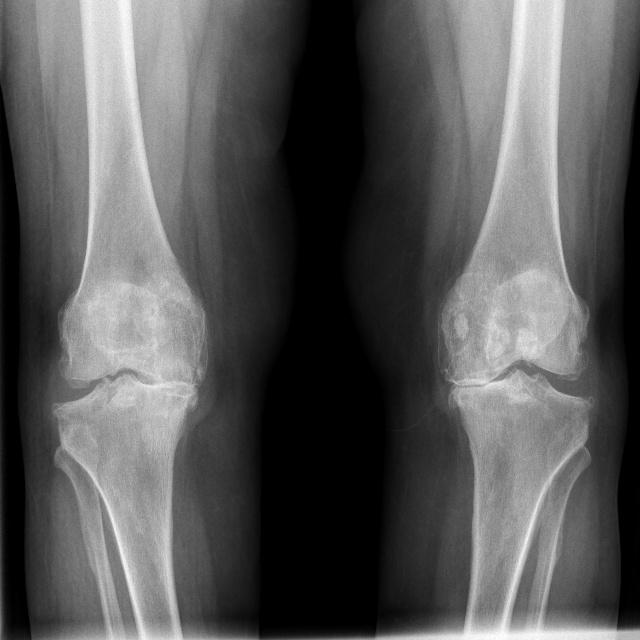Knee: (433, 284, 593, 465), (48, 288, 207, 469)
